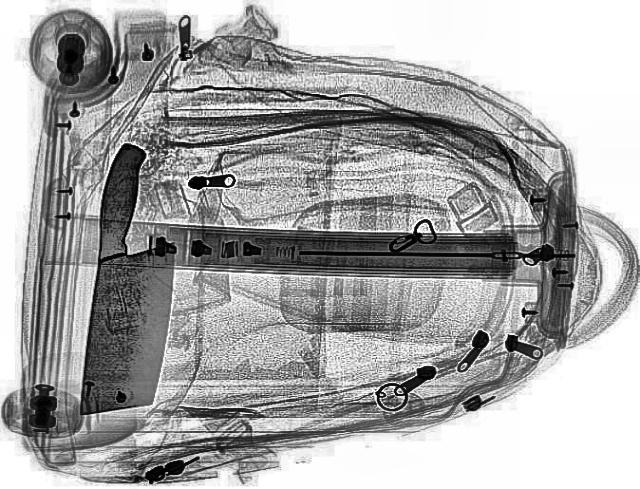Knife: (68, 140, 194, 420)
